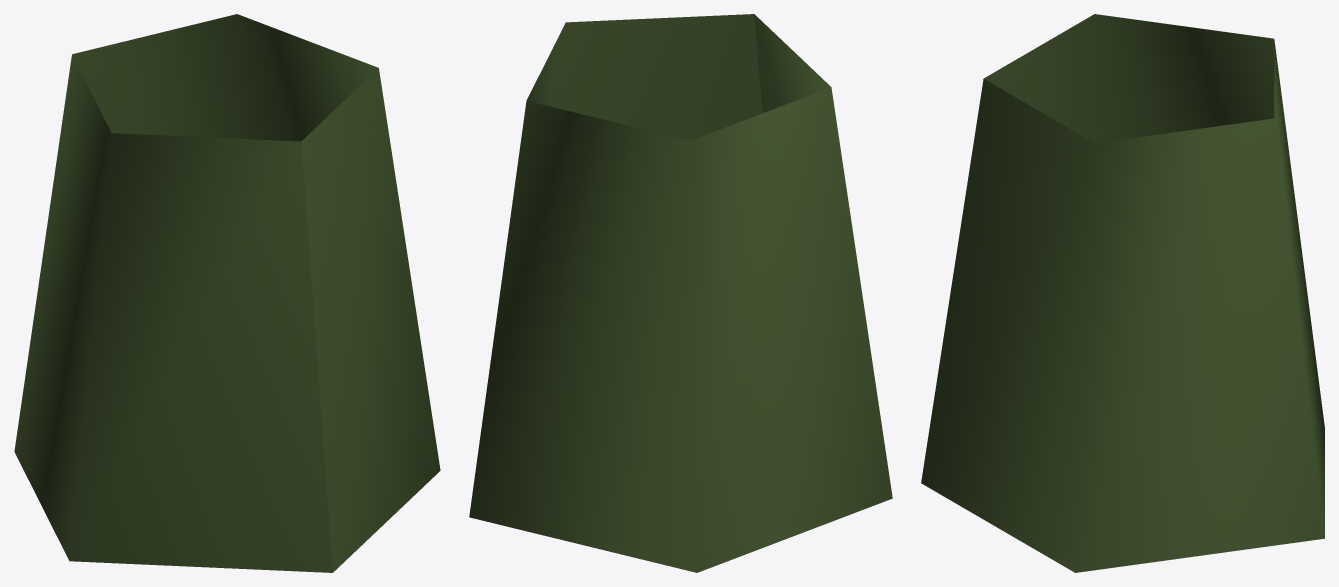
Rendered from stem-petiole.glb.
3 views of the same model, side by side, from view 1: azimuth 30°, elevation 25°; view 2: azimuth 150°, elevation 25°; view 3: azimuth 270°, elevation 25° (orthographic).
Visible parts, largest first — view 1: surface; view 2: surface; view 3: surface.
Part boxes in pixels (x1=…): surface: x1=14, y1=14, x2=440, y2=572; surface: x1=469, y1=14, x2=892, y2=572; surface: x1=921, y1=14, x2=1324, y2=572.
Size of the model in its own units: 0.9511 by 1 by 0.9045.
